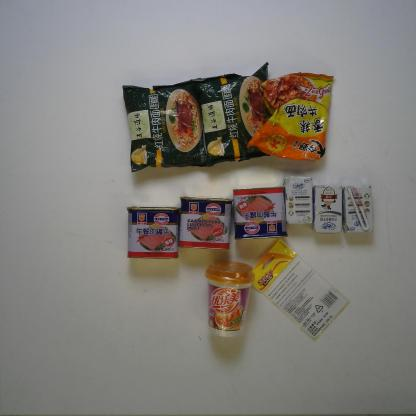Canned Food: (228, 181, 289, 244), (176, 191, 236, 254), (124, 202, 184, 262)
Instant Drink: (200, 256, 257, 342)
Instant Noodles: (245, 66, 340, 168), (120, 73, 211, 176), (189, 62, 277, 167)
Milk: (306, 182, 344, 237), (278, 173, 316, 227), (340, 182, 376, 236)
Stationery: (243, 232, 354, 341)
